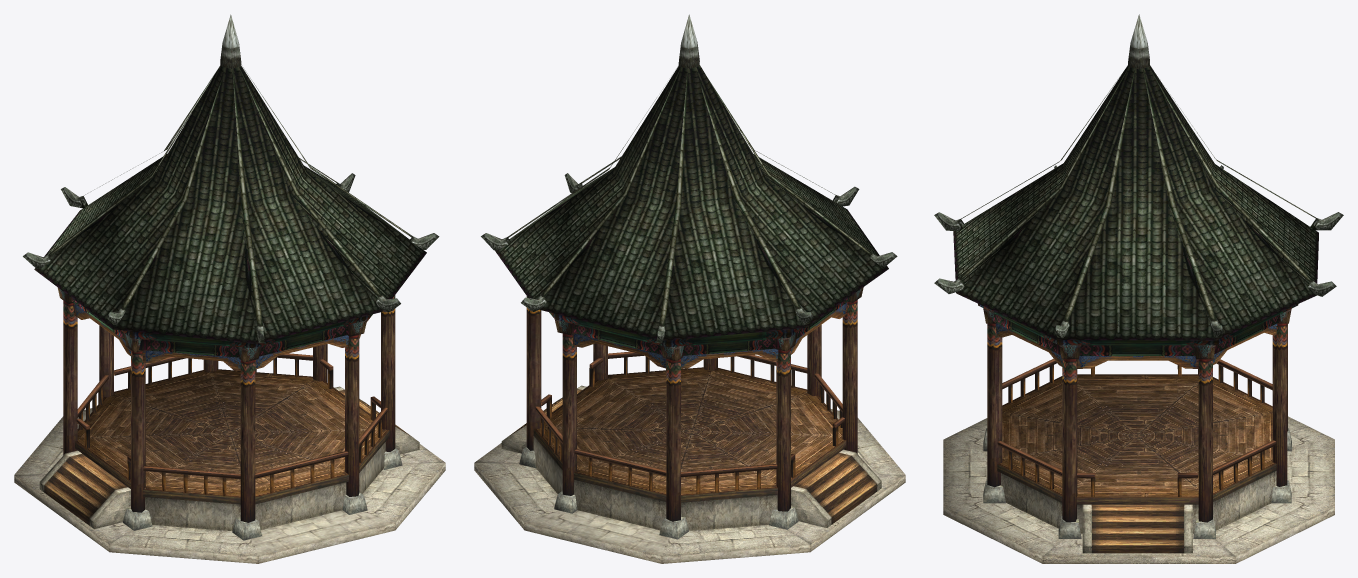
The model's file is c1-001-house3_lod_01.fbx.
The picture shows the model from 3 angles, left to right: view 1: azimuth 30°, elevation 25°; view 2: azimuth 150°, elevation 25°; view 3: azimuth 270°, elevation 25°; orthographic projection.
Visible parts, largest first — view 1: c1-001-house3; view 2: c1-001-house3; view 3: c1-001-house3.
Part boxes in pixels (<box>): c1-001-house3: <box>14,14,445,563</box>; c1-001-house3: <box>474,14,905,563</box>; c1-001-house3: <box>934,14,1343,563</box>.
Size of the model in its own units: 8.16 by 10.72 by 8.52.
